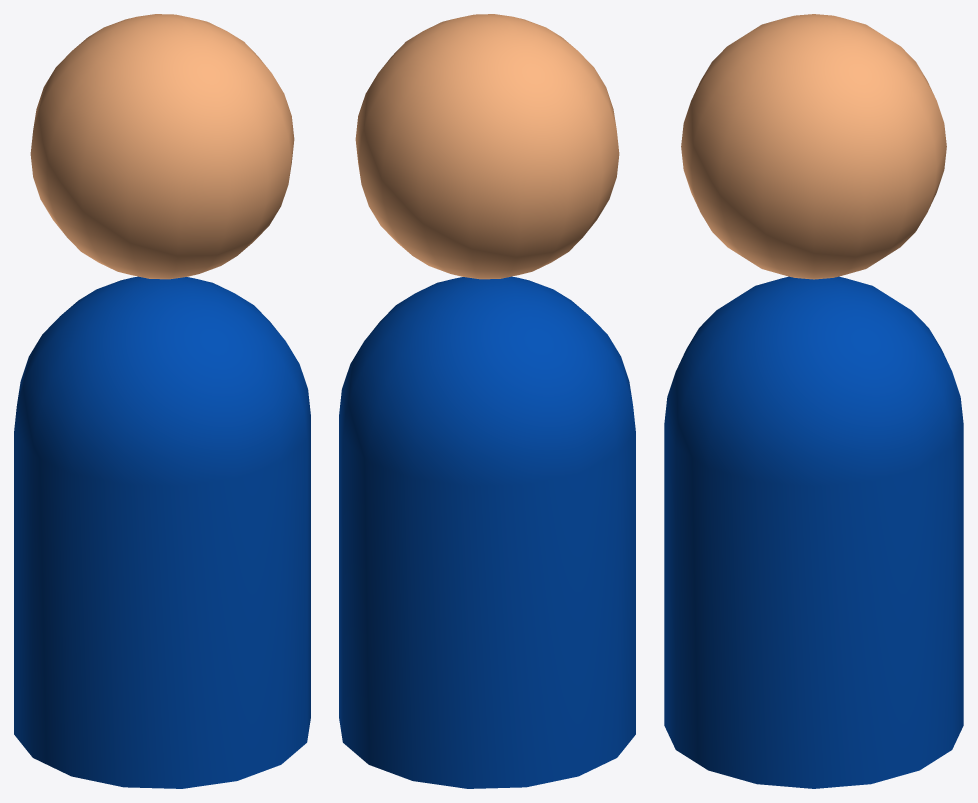
Rendered from Character.fbx.
The picture shows the model from 3 angles, left to right: view 1: azimuth 30°, elevation 25°; view 2: azimuth 150°, elevation 25°; view 3: azimuth 270°, elevation 25°; orthographic projection.
Visible parts, largest first — view 1: sphere; view 2: sphere; view 3: sphere.
Boxes of the visible parts, x1,y1,x2,y2 form: sphere: (14,14,310,788); sphere: (339,14,635,788); sphere: (664,14,963,788).
Bounding box in the file's own units: 0.7647 × 1.97 × 0.7647.
